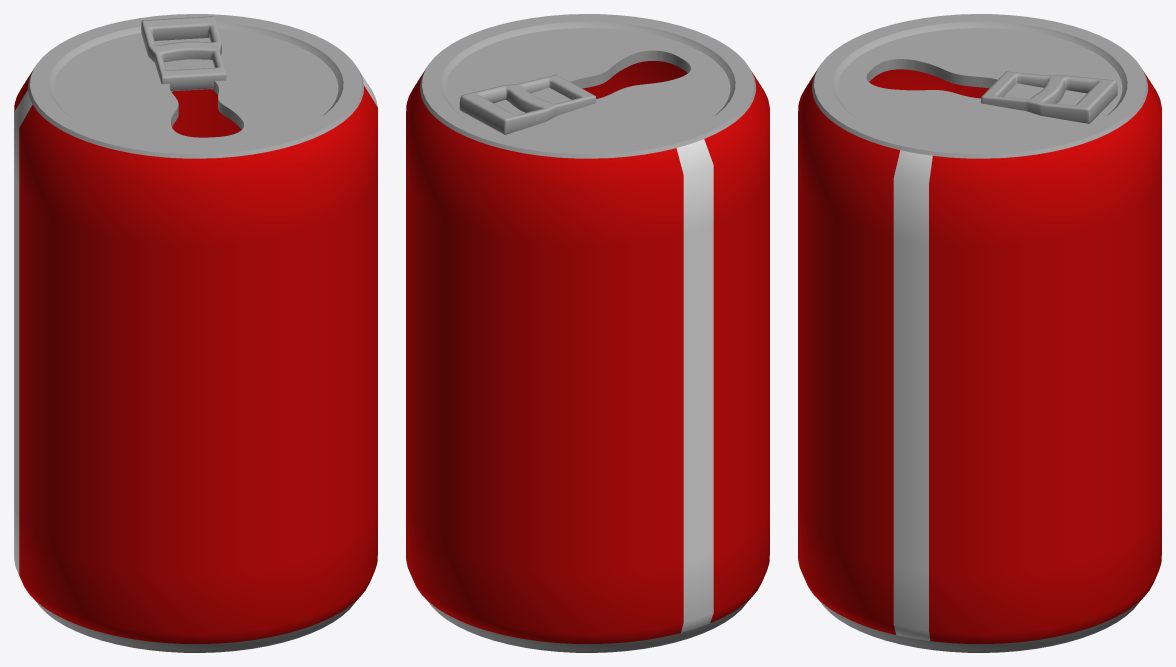
Rendered from FbxCan.fbx.
3 renders of one model, left to right at view 1: azimuth 30°, elevation 25°; view 2: azimuth 150°, elevation 25°; view 3: azimuth 270°, elevation 25°, orthographic.
Parts seen in each view (by area): view 1: pCylinder19, polySurface2, pCube86; view 2: pCylinder19, polySurface2, pCube86; view 3: pCylinder19, polySurface2, pCube86.
Part boxes in pixels (bbox=[...]): pCylinder19: bbox=[14, 14, 377, 652]; polySurface2: bbox=[53, 29, 338, 146]; pCube86: bbox=[141, 16, 226, 91]; pCylinder19: bbox=[406, 14, 769, 652]; polySurface2: bbox=[445, 28, 730, 146]; pCube86: bbox=[459, 74, 596, 134]; pCylinder19: bbox=[798, 14, 1161, 652]; polySurface2: bbox=[837, 28, 1122, 146]; pCube86: bbox=[981, 71, 1117, 123].
Size of the model in its own units: 7.29 by 11.27 by 7.29.
